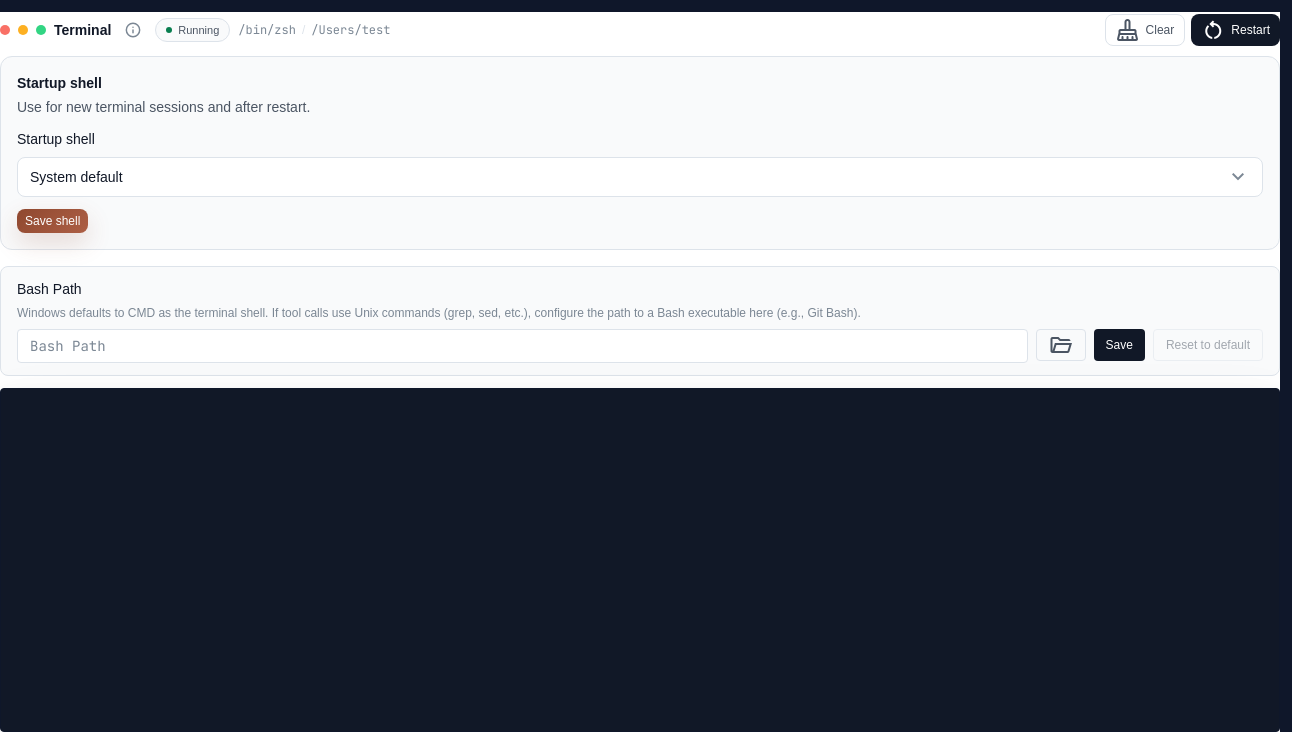
TerminalSettings › selects a Windows bash path through the injected desktop host
Check: the field with placeholder "Bash Path" is shown, box x1=17 y1=329 x2=1028 y2=363
Click the button "folder_open" at (1061, 345), box x1=1036 y1=329 x2=1086 y2=361
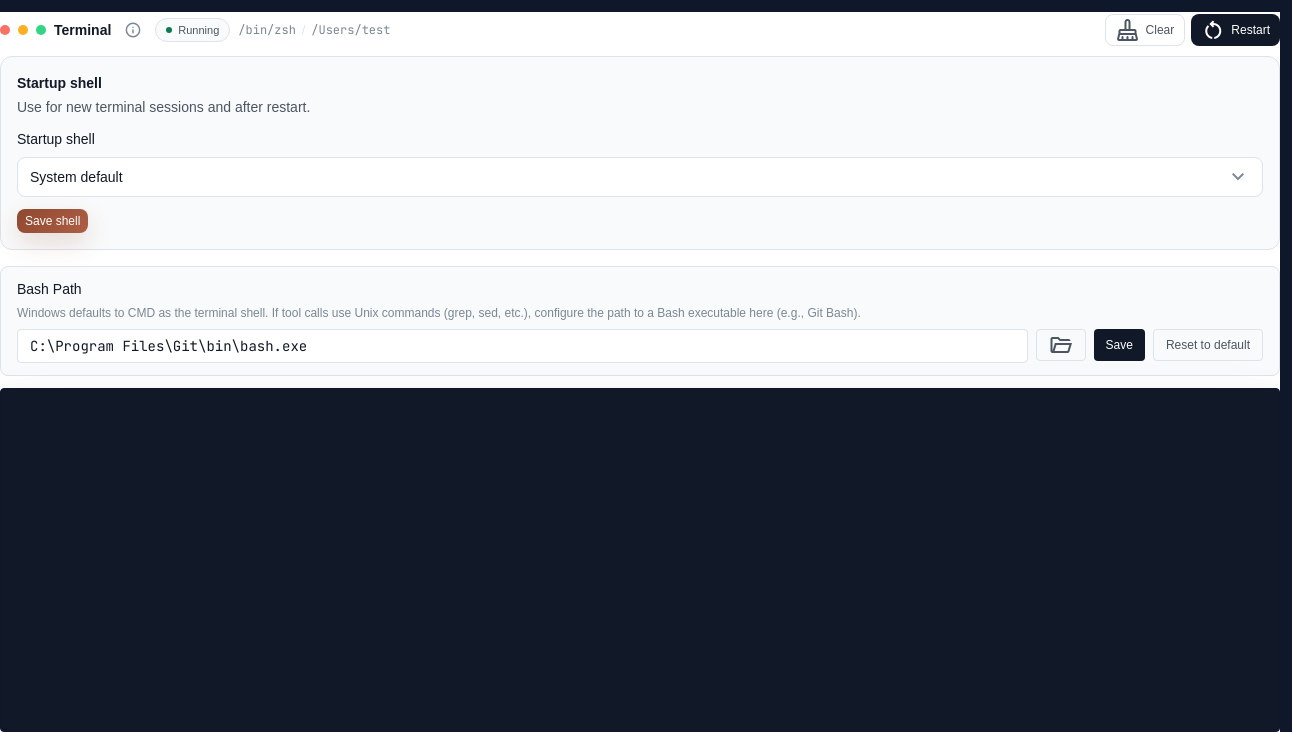
Check: the field showing "C:\\Program Files\\Git\\bin\\bash.exe" is shown, box x1=17 y1=329 x2=1028 y2=363
